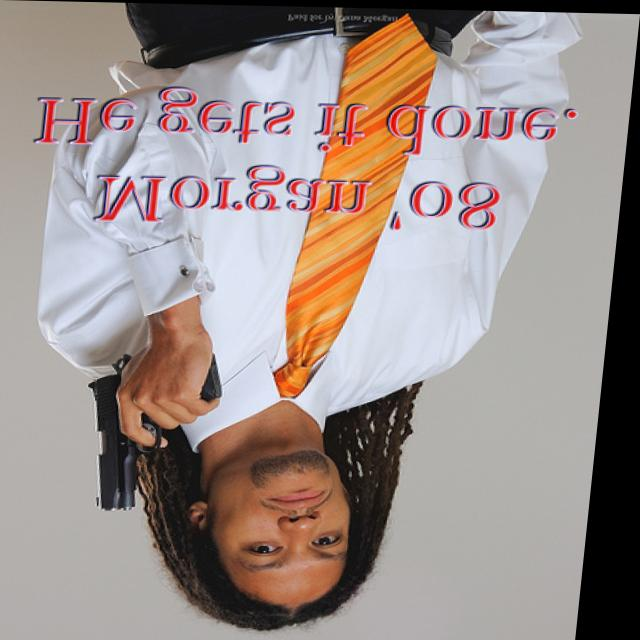handgun: (75, 352, 234, 516)
